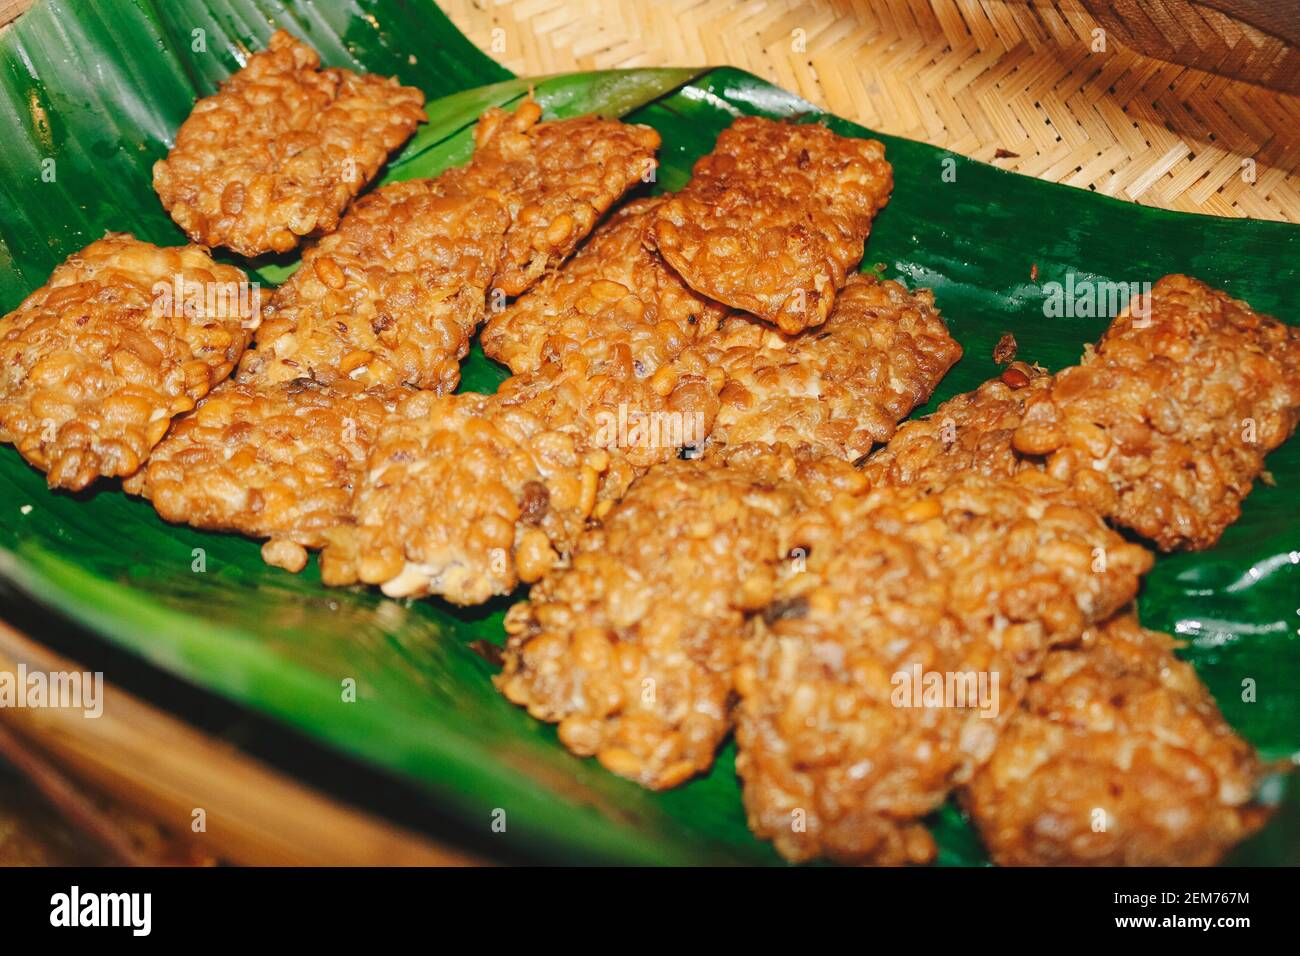Tempe: (1014, 244, 1270, 587), (135, 42, 441, 236), (1, 224, 254, 449), (673, 112, 872, 353), (370, 381, 574, 578)
